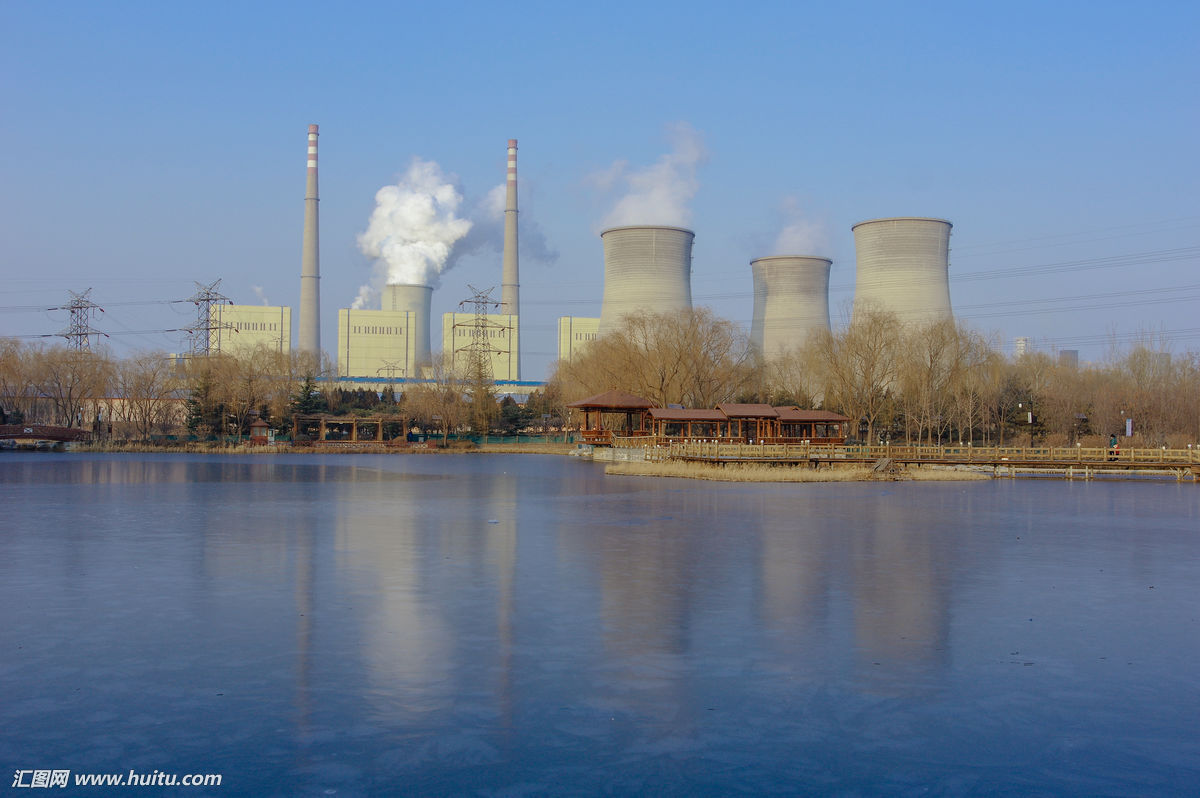dust: (345, 165, 504, 293), (583, 122, 714, 241)
